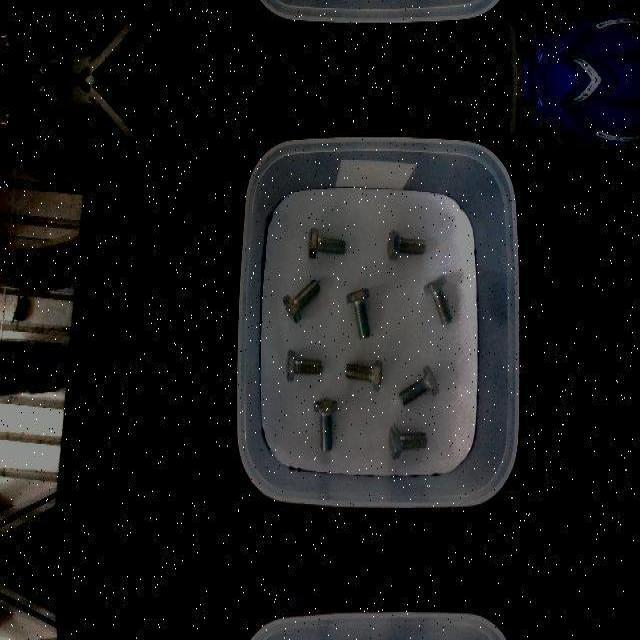screw: (399, 363, 440, 405), (283, 278, 320, 322), (424, 275, 453, 325), (389, 424, 428, 458), (313, 397, 337, 451), (344, 358, 382, 392), (346, 288, 371, 338), (387, 230, 426, 262), (284, 348, 322, 380), (307, 226, 345, 256)
